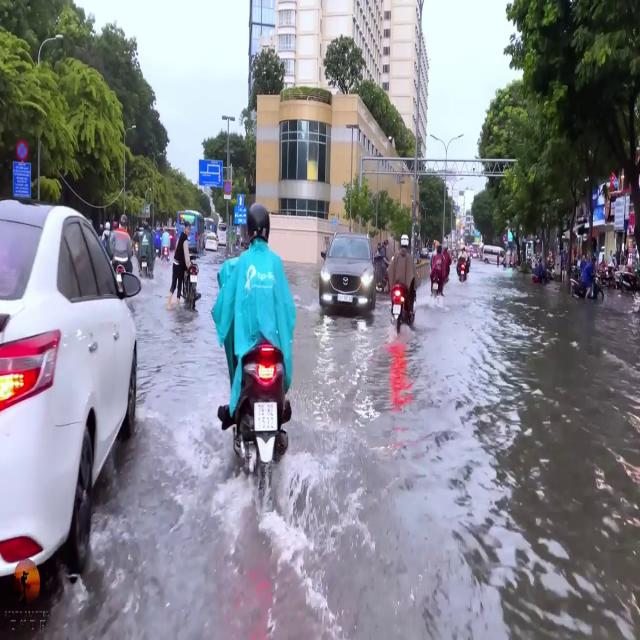bien_trang: (252, 401, 279, 435)
